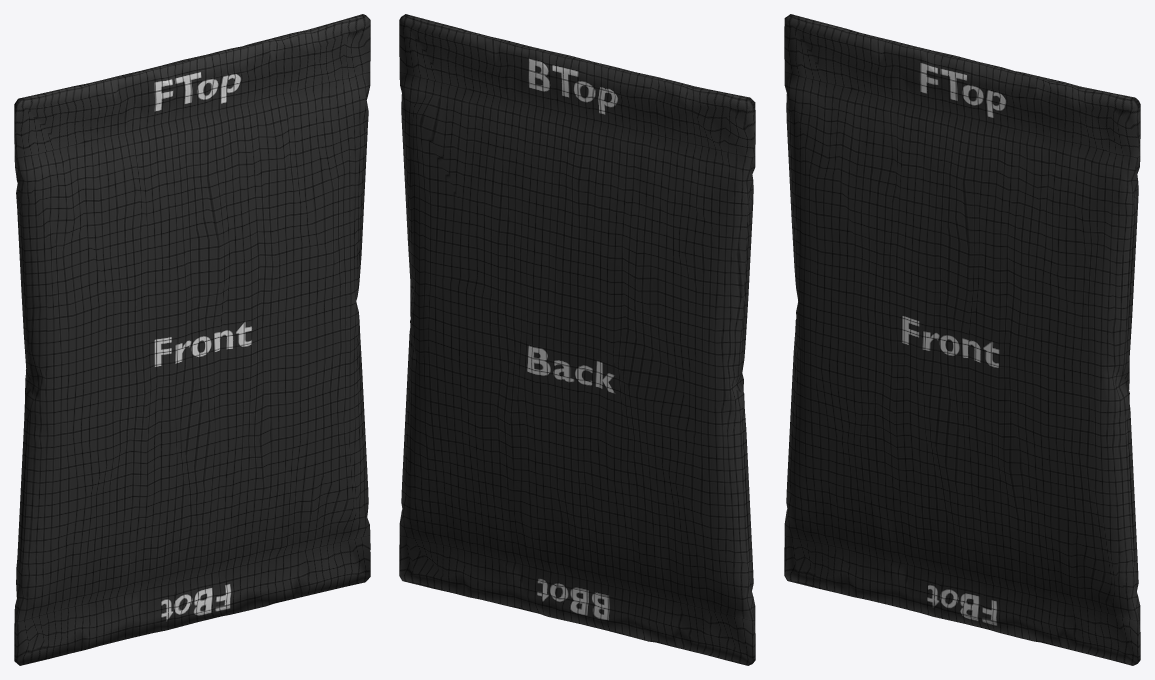
Rendered from PackCompressed.glb.
The picture shows the model from 3 angles, left to right: view 1: azimuth 30°, elevation 25°; view 2: azimuth 150°, elevation 25°; view 3: azimuth 330°, elevation 25°; orthographic projection.
Visible parts, largest first — view 1: Booster Pack; view 2: Booster Pack; view 3: Booster Pack.
Boxes of the visible parts, box(x1,y1,x2,y2) form: Booster Pack: box(14, 14, 370, 665); Booster Pack: box(399, 14, 755, 665); Booster Pack: box(784, 14, 1140, 665).
Bounding box in the file's own units: 0.9175 × 1.4 × 0.1031.
Materials: 1 (1 with a texture image).
